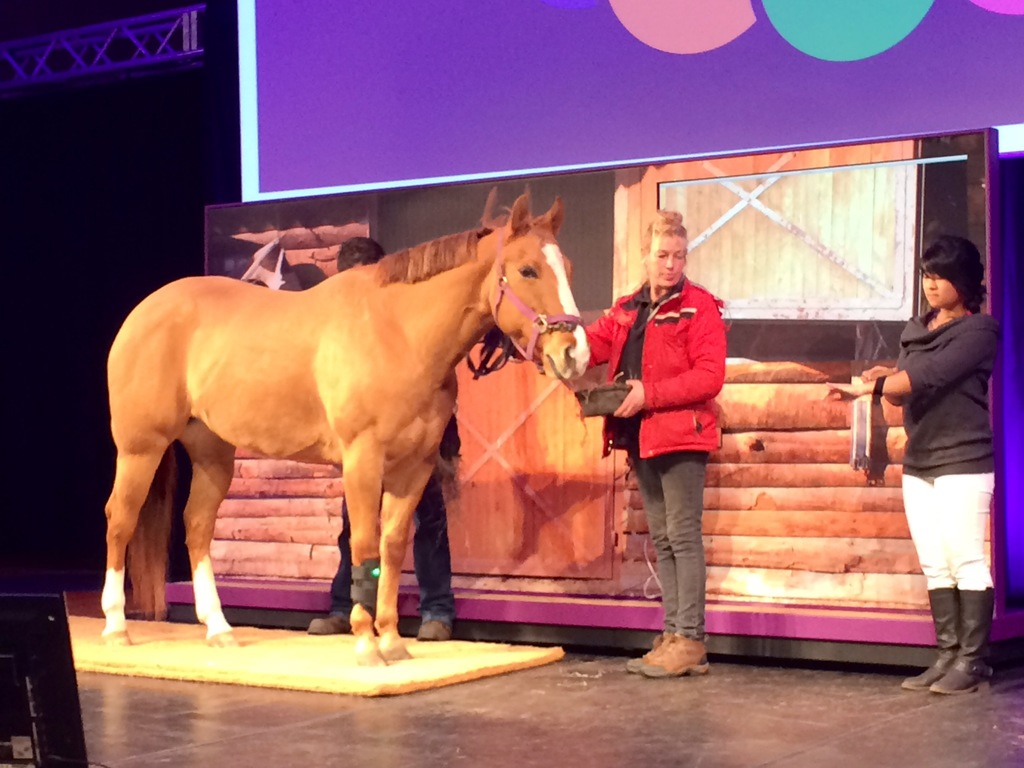horse: (97, 185, 594, 669)
